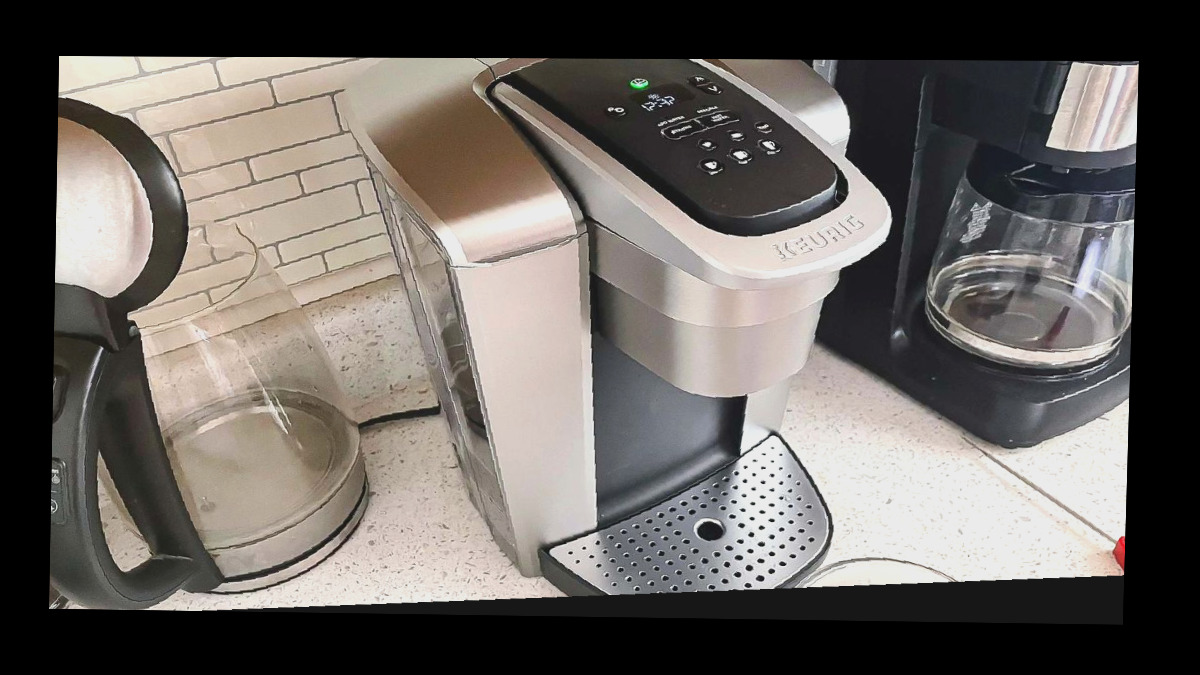10oz: (728, 146, 754, 165)
12oz: (756, 137, 787, 157)
4oz: (696, 138, 719, 152)
6oz: (725, 128, 748, 142)
8oz: (696, 157, 727, 176)
add_water: (651, 101, 694, 131)
descale: (691, 88, 735, 116)
hot: (698, 101, 743, 134)
iced: (753, 119, 776, 135)
power: (629, 77, 650, 90)
strong: (658, 114, 703, 149)
